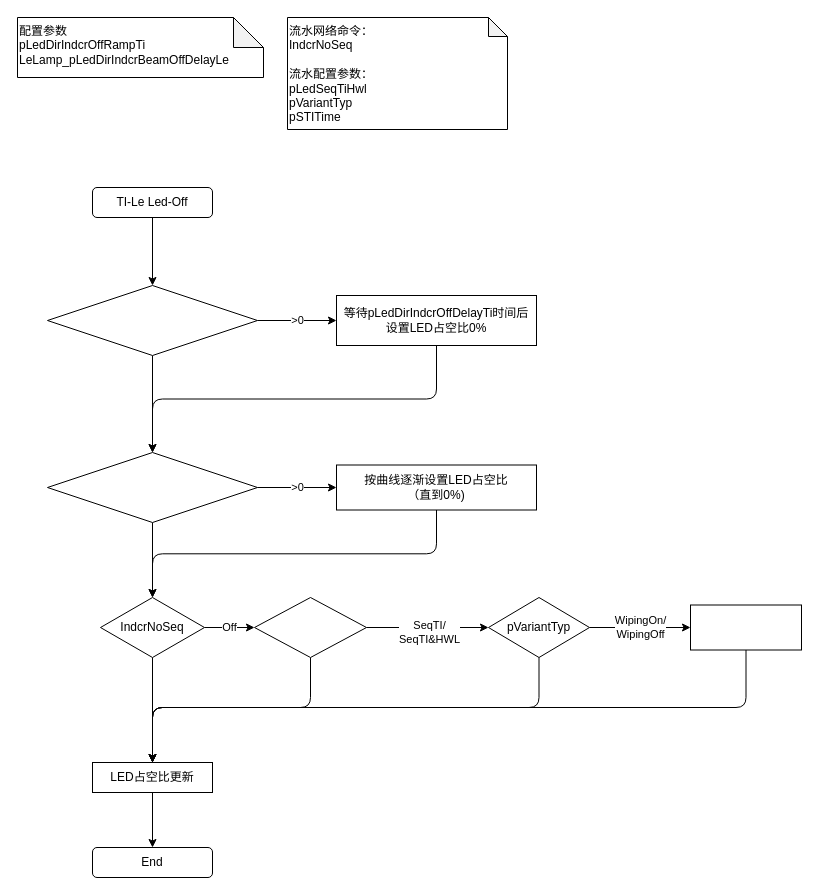
The diagram is 819 pixels wide and 895 high, and some of its shapes have lost their labels. The box of each missing label's shape, as (x1, y1, x2, y2) in pixels:
pLedDirIndcrBeamOffRampLe: (46, 452, 258, 522)
pLedDirIndcrOffDelayTi: (46, 284, 258, 356)
pLedSeqTiHwl: (254, 596, 366, 658)
按wiping模式 设置LED使能: (690, 604, 802, 650)
